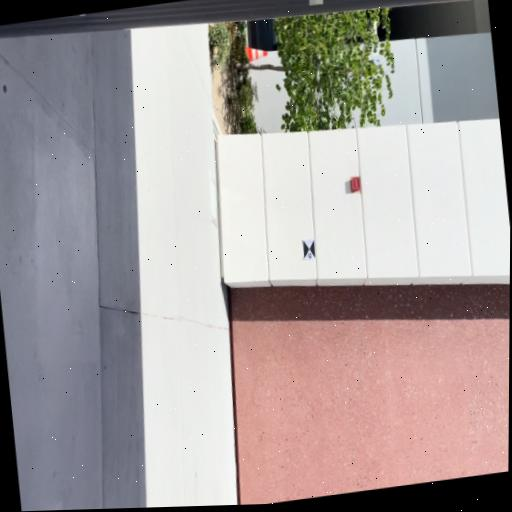target9: (303, 238, 316, 259)
